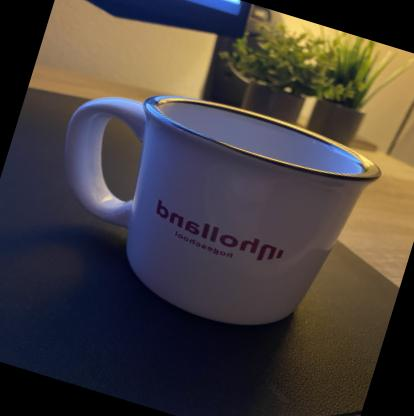Cup: (22, 59, 390, 360)
